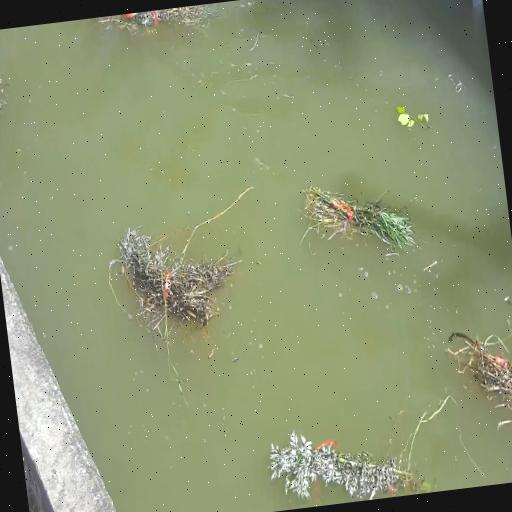twig: (271, 423, 432, 511), (122, 216, 228, 326), (298, 178, 416, 258), (446, 309, 512, 434), (94, 2, 228, 42), (396, 94, 438, 142), (0, 67, 9, 129)
